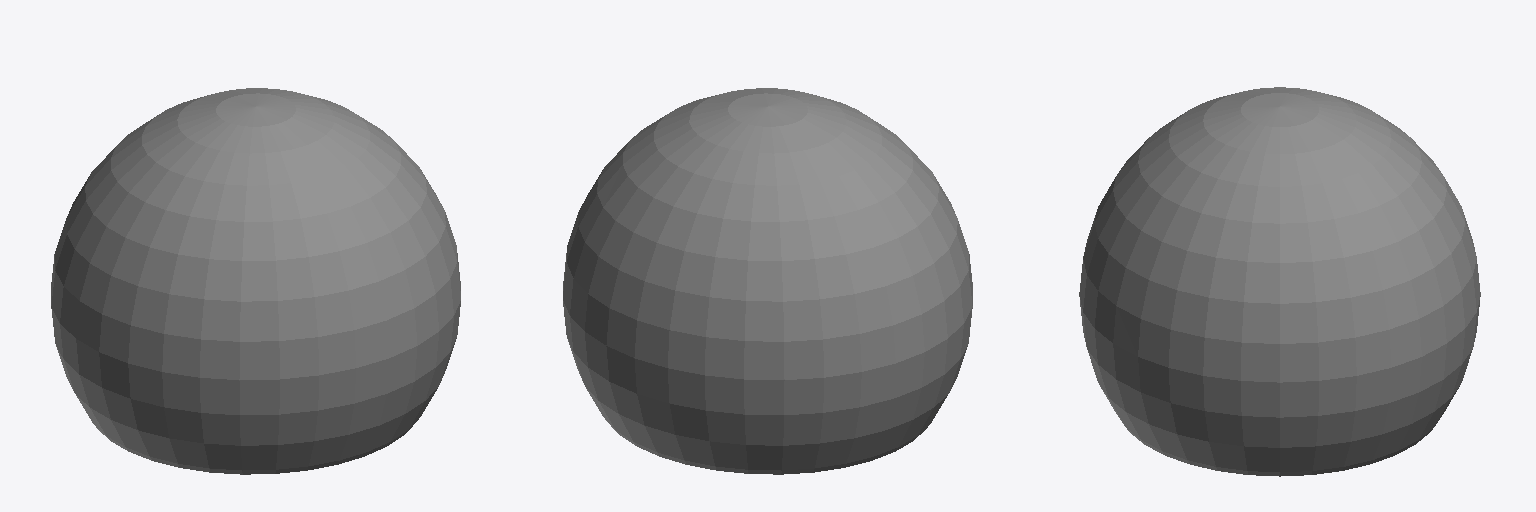
File: dome.obj
3 views of the same model, side by side, from view 1: azimuth 30°, elevation 25°; view 2: azimuth 150°, elevation 25°; view 3: azimuth 270°, elevation 25° (orthographic).
Visible parts, largest first — view 1: Dome; view 2: Dome; view 3: Dome.
Part boxes in pixels (x1,y1,x2,y2): Dome: (51,88,460,474); Dome: (563,88,972,474); Dome: (1079,87,1480,476).
Bounding box in the file's own units: 123 × 97.38 × 119.